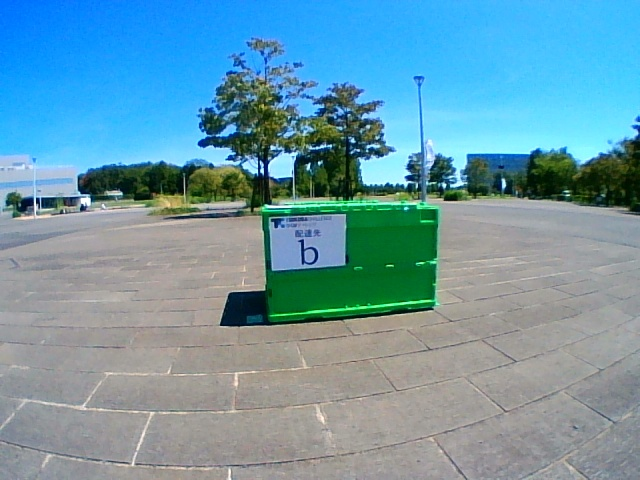green_box: (263, 202, 438, 323)
tag_b: (270, 217, 344, 266)
